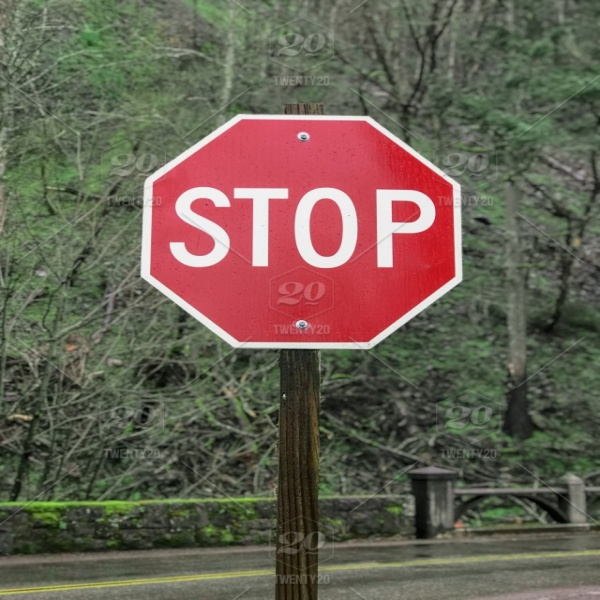stop: (139, 120, 455, 348)
